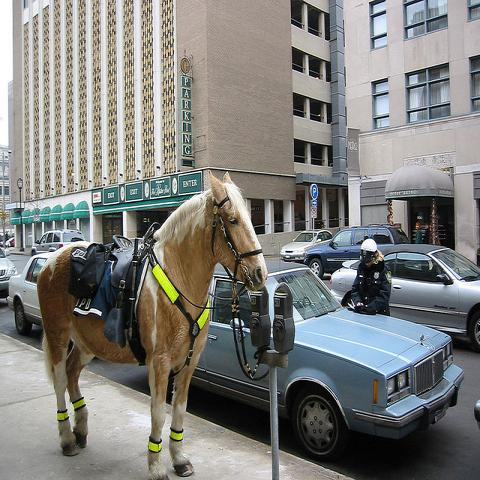car: (193, 256, 464, 462), (328, 243, 480, 354), (303, 224, 408, 279), (10, 259, 45, 330), (281, 229, 330, 260), (0, 247, 20, 307)
